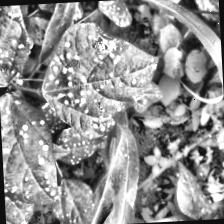Bean Rust: (40, 25, 158, 125), (0, 90, 66, 208), (50, 118, 118, 166), (49, 175, 98, 224), (4, 181, 36, 224)
